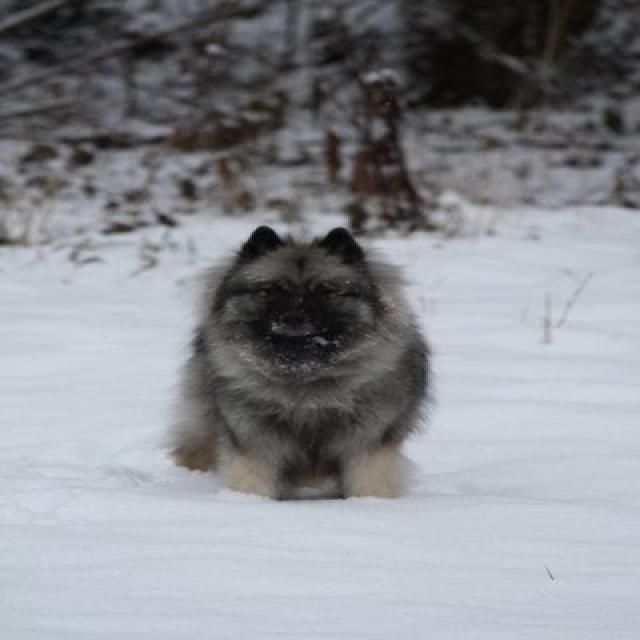dog-keeshond: (146, 216, 446, 509)
